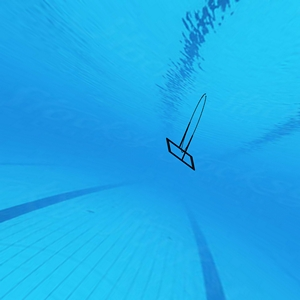circle: (166, 91, 208, 172)
